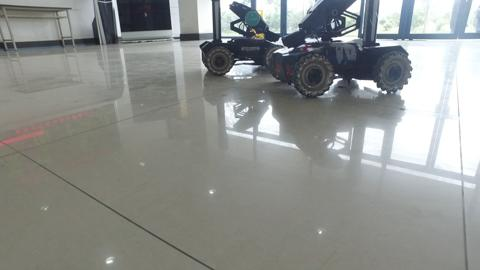chariot: (277, 1, 415, 98), (198, 1, 291, 73)
